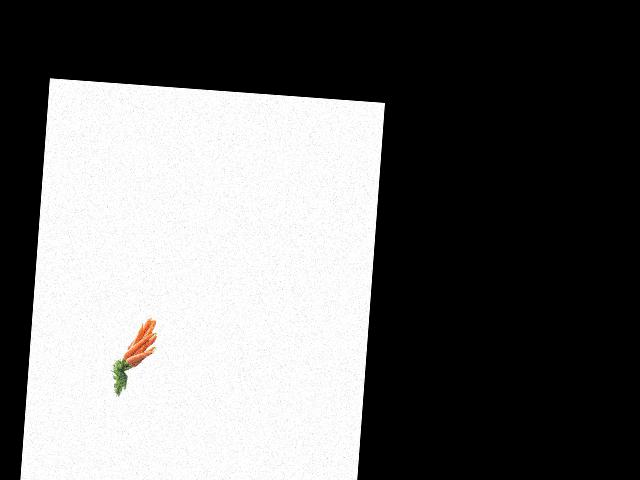carrot: (128, 350, 163, 370)
